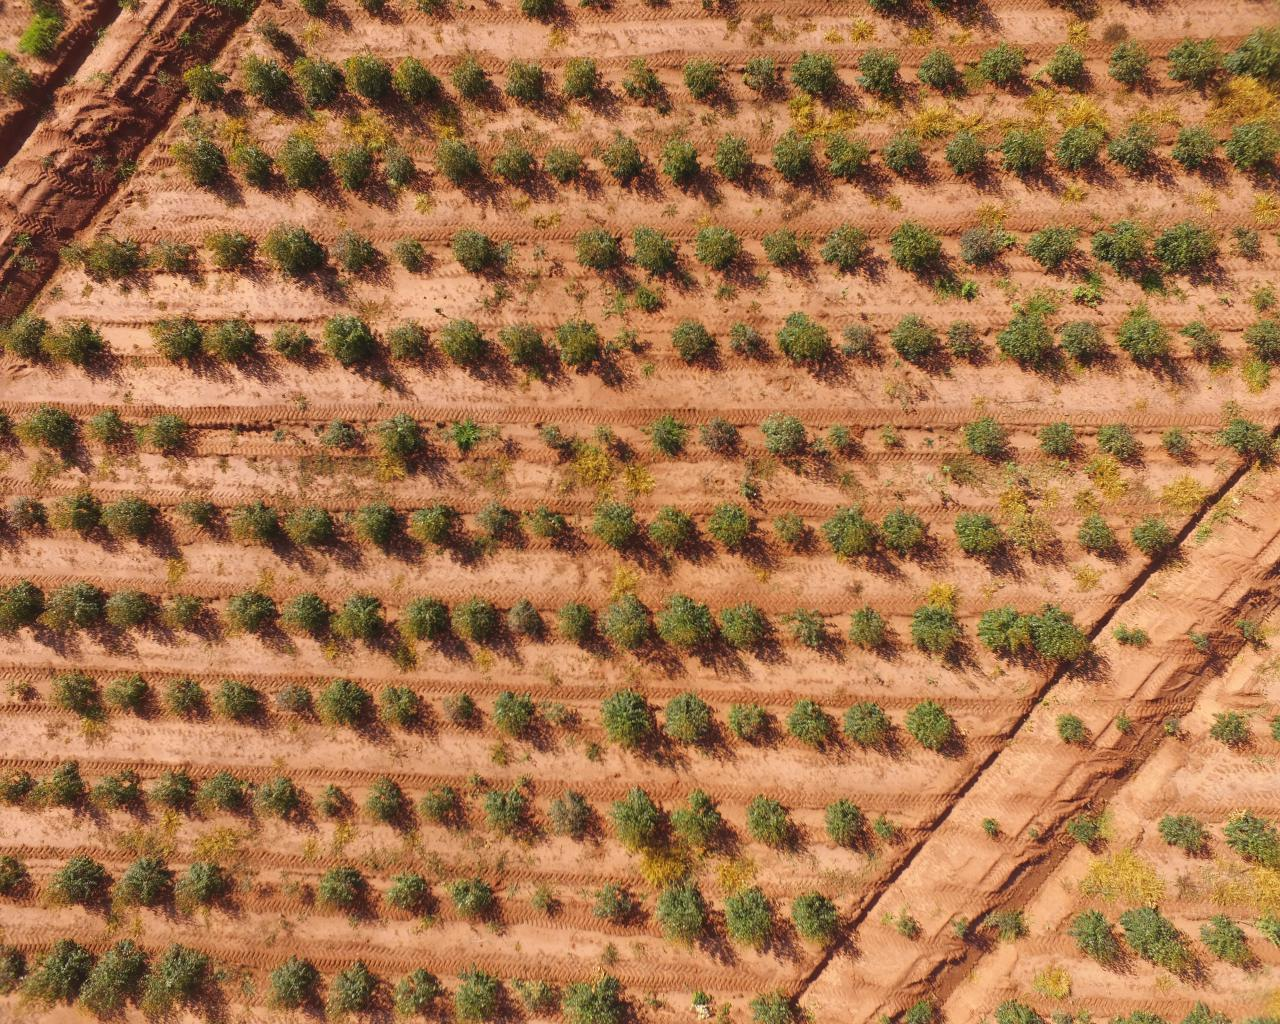Tree: (1126, 905, 1200, 981), (145, 952, 215, 1024), (776, 310, 839, 382), (18, 942, 91, 1004), (1119, 318, 1185, 383), (905, 698, 973, 762), (657, 594, 720, 661), (90, 945, 145, 1021), (263, 225, 331, 283), (720, 607, 788, 665), (843, 698, 905, 761), (1073, 910, 1127, 979), (998, 316, 1057, 378), (259, 956, 327, 1009), (1195, 915, 1256, 974), (393, 965, 452, 1024), (523, 503, 585, 559), (598, 689, 654, 750), (145, 319, 203, 377), (326, 961, 380, 1022), (442, 319, 493, 382), (62, 323, 117, 381), (888, 315, 942, 373), (1035, 605, 1089, 665), (322, 316, 376, 372), (788, 697, 841, 754), (564, 977, 629, 1024), (504, 971, 560, 1024), (605, 598, 652, 661), (449, 54, 502, 111), (905, 609, 961, 661), (793, 611, 850, 664), (727, 895, 775, 954), (107, 496, 168, 541), (821, 505, 881, 551), (709, 135, 761, 188), (1164, 228, 1215, 281), (385, 323, 440, 372), (1001, 131, 1049, 187), (664, 691, 711, 748), (711, 503, 761, 556), (608, 792, 661, 842), (671, 322, 723, 372), (315, 679, 369, 727), (553, 317, 600, 372), (208, 320, 258, 371), (0, 582, 47, 636), (725, 699, 779, 746), (822, 226, 878, 272), (559, 59, 610, 108), (727, 321, 773, 375), (1229, 27, 1280, 75), (1167, 39, 1219, 86), (455, 971, 501, 1024), (216, 675, 265, 724), (945, 317, 993, 367), (207, 229, 258, 276), (25, 411, 83, 452), (559, 598, 601, 655), (601, 143, 645, 197), (1113, 131, 1160, 181), (52, 493, 103, 539), (588, 504, 637, 551), (650, 505, 700, 551), (1160, 816, 1211, 861), (890, 225, 942, 269), (393, 53, 436, 107), (279, 143, 326, 191), (1057, 130, 1107, 176), (412, 504, 461, 550), (281, 592, 330, 638), (744, 797, 789, 847), (258, 776, 308, 821), (796, 892, 840, 944), (1060, 323, 1116, 363), (332, 233, 387, 274), (550, 791, 597, 838), (436, 144, 482, 192), (981, 610, 1030, 655), (47, 587, 99, 629), (334, 594, 381, 639), (882, 137, 930, 182), (672, 794, 720, 839), (664, 893, 703, 948), (825, 141, 875, 185), (296, 62, 344, 106), (1108, 44, 1156, 88), (178, 144, 227, 187), (571, 228, 620, 271), (854, 609, 897, 658), (790, 55, 845, 93), (1172, 126, 1218, 171), (498, 324, 548, 366), (506, 595, 548, 644), (691, 230, 748, 265), (825, 797, 864, 850), (48, 669, 93, 714), (546, 145, 592, 189), (329, 148, 375, 192), (957, 513, 1004, 556), (491, 690, 534, 737), (635, 228, 677, 276), (507, 56, 546, 107), (664, 138, 701, 190), (145, 239, 204, 273), (390, 236, 440, 275), (273, 323, 316, 368), (1096, 226, 1142, 267), (983, 40, 1023, 88), (742, 57, 783, 103), (885, 513, 931, 554), (379, 685, 425, 726), (451, 599, 498, 638), (773, 137, 815, 181), (96, 241, 146, 278), (235, 505, 279, 546), (1214, 709, 1255, 754), (859, 49, 899, 95), (494, 147, 540, 187), (1028, 227, 1074, 266), (201, 771, 248, 810), (1232, 823, 1279, 862), (1045, 45, 1087, 88), (770, 507, 813, 549), (916, 48, 960, 89), (230, 592, 275, 632), (438, 689, 483, 728), (153, 415, 199, 453), (365, 778, 403, 824), (1235, 610, 1270, 661), (949, 139, 990, 182), (165, 595, 208, 635), (623, 59, 662, 102), (680, 56, 720, 100), (844, 326, 884, 370), (161, 677, 205, 717), (4, 316, 43, 360), (1229, 129, 1280, 162), (106, 591, 154, 627), (247, 61, 285, 104), (1182, 317, 1224, 356), (762, 414, 804, 453), (99, 675, 147, 709), (451, 233, 490, 276), (354, 55, 390, 101), (402, 600, 444, 638), (965, 420, 1009, 457), (178, 504, 229, 535), (355, 507, 397, 544), (154, 771, 195, 809), (42, 768, 80, 808), (483, 791, 525, 828), (750, 992, 797, 1024), (289, 508, 333, 542), (317, 781, 357, 817), (240, 147, 276, 189), (59, 860, 101, 894), (478, 501, 519, 535), (381, 418, 424, 451), (387, 874, 419, 916), (761, 230, 799, 265), (1042, 422, 1080, 458), (702, 418, 741, 453), (89, 413, 127, 448), (1240, 320, 1280, 354), (13, 498, 47, 538), (98, 774, 139, 808), (0, 859, 33, 900), (322, 420, 364, 451), (272, 681, 311, 714), (127, 862, 160, 902), (185, 868, 217, 908), (1099, 425, 1140, 457), (448, 882, 493, 910), (322, 870, 359, 904), (1136, 520, 1172, 554), (189, 69, 224, 103), (596, 887, 629, 923), (1160, 426, 1191, 463), (425, 787, 458, 821), (1083, 519, 1116, 552), (1056, 715, 1090, 747), (1165, 719, 1198, 751), (1230, 224, 1259, 260), (967, 232, 996, 269), (893, 908, 925, 941), (1185, 631, 1217, 662), (1109, 709, 1139, 743), (1118, 622, 1147, 655), (4, 773, 34, 805), (1068, 815, 1096, 846), (389, 157, 419, 184), (977, 811, 1003, 842), (529, 892, 562, 916), (8, 679, 40, 703), (877, 817, 900, 843), (591, 425, 621, 444), (542, 425, 566, 447)
